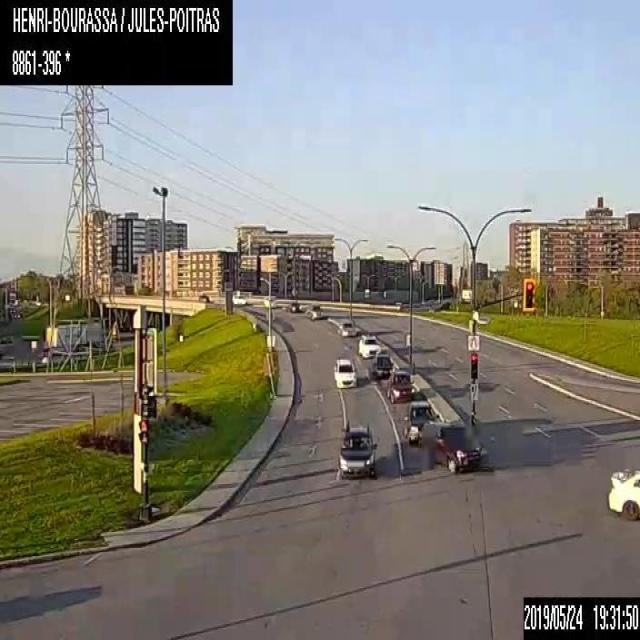vehicle: (420, 421, 480, 473), (336, 424, 378, 476), (43, 321, 101, 352), (606, 467, 639, 521), (402, 401, 438, 448), (385, 369, 414, 401), (332, 356, 355, 387), (370, 352, 392, 381), (356, 334, 381, 358), (336, 318, 356, 336), (304, 302, 322, 318), (287, 300, 301, 313), (263, 295, 276, 308), (232, 295, 246, 305)
